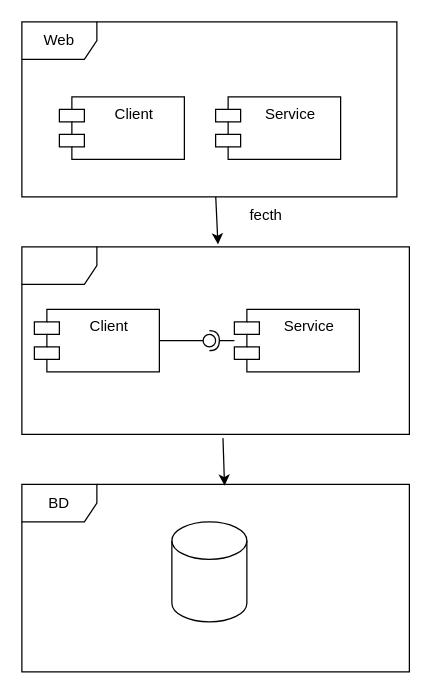
This 431x694 diagram has some shape labels left out. The shapes that lost their labels are listed below. From the top down, each one's centre as x and y in pixels, then its label:
(x=215, y=340): core
(x=209, y=571): MySql
